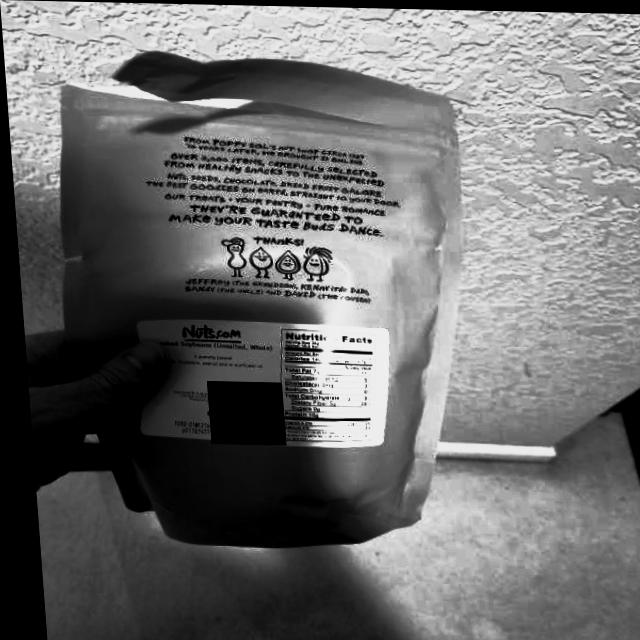qr_code: (201, 381, 280, 444)
